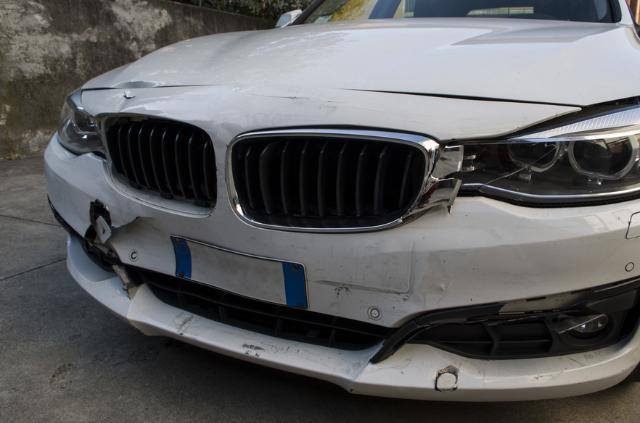Bonnet: (87, 54, 172, 95)
Bumper: (24, 173, 638, 404)
